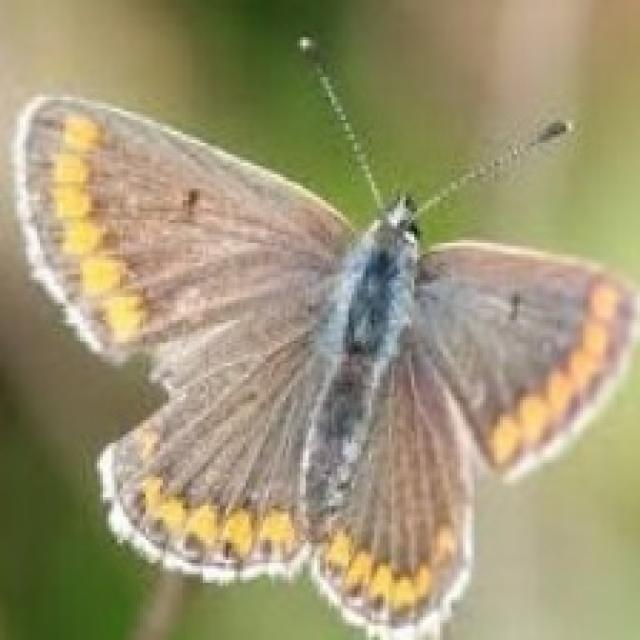butterfly: (12, 32, 637, 637)
